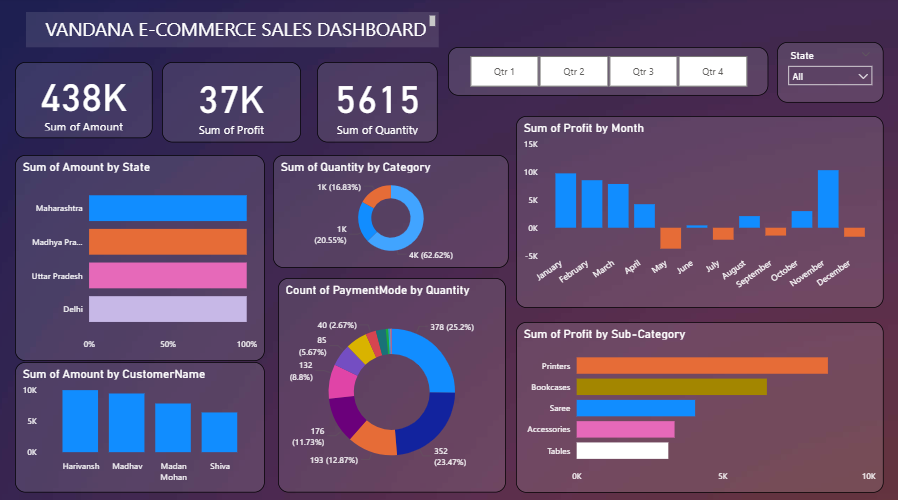

This screenshot's page, from the dashboard's own definition file:
{"tool":"powerbi","page":{"name":"Page 1","canvas":[1280,720],"ordinal":0},"visuals":[{"type":"textbox","box":[42,21.8,584.6,50.4],"z":0},{"type":"columnChart","fields":{"Category":["Orders.Order Date.Variation.Date Hierarchy.Month"],"Y":["Details.Profit"]},"box":[737.4,168,520.7,272.1],"z":1000},{"type":"clusteredBarChart","fields":{"Category":["Details.Sub-Category"],"Y":["Details.Profit"]},"box":[737.4,460.3,520.7,241.9],"z":2000},{"type":"donutChart","fields":{"Category":["Details.Category"],"Y":["Details.Quantity"]},"box":[393.1,223.4,334.3,159.6],"z":3000},{"type":"donutChart","fields":{"Category":["Details.Quantity"],"Y":["Details.PaymentMode"]},"box":[399.8,398.1,322.5,304],"z":4000},{"type":"card","fields":{"Values":["Details.Amount"]},"box":[26.9,92.4,194.9,107.5],"z":5000},{"type":"card","fields":{"Values":["Details.Profit"]},"box":[235.2,92.4,196.5,114.2],"z":6000},{"type":"card","fields":{"Values":["Details.Quantity"]},"box":[455.2,92.4,171.3,114.2],"z":7000},{"type":"hundredPercentStackedBarChart","fields":{"Category":["Orders.State"],"Y":["Details.Amount"]},"box":[26.9,223.4,354.4,292.3],"z":8000},{"type":"columnChart","fields":{"Category":["Orders.CustomerName"],"Y":["Details.Amount"]},"box":[26.9,517.4,354.4,184.8],"z":9000},{"type":"slicer","fields":{"Values":["Orders.Order Date.Variation.Date Hierarchy.Quarter"]},"box":[640,70.6,453.5,68.9],"z":10000},{"type":"slicer","fields":{"Values":["Orders.State"]},"box":[1107,63.8,151.2,85.7],"z":11000}]}

Visuals, with their boxes in screenshot pixels (x1, y1, x2, y2), scaled from the page's 1280x720 canvas onto the 898x500 screenshot:
textbox: {"left": 29, "top": 15, "right": 440, "bottom": 50}
columnChart - Orders.Order Date.Variation.Date Hierarchy.Month x Details.Profit: {"left": 517, "top": 117, "right": 883, "bottom": 306}
clusteredBarChart - Details.Sub-Category x Details.Profit: {"left": 517, "top": 320, "right": 883, "bottom": 488}
donutChart - Details.Category x Details.Quantity: {"left": 276, "top": 155, "right": 510, "bottom": 266}
donutChart - Details.Quantity x Details.PaymentMode: {"left": 280, "top": 276, "right": 507, "bottom": 488}
card - Details.Amount: {"left": 19, "top": 64, "right": 156, "bottom": 139}
card - Details.Profit: {"left": 165, "top": 64, "right": 303, "bottom": 143}
card - Details.Quantity: {"left": 319, "top": 64, "right": 440, "bottom": 143}
hundredPercentStackedBarChart - Orders.State x Details.Amount: {"left": 19, "top": 155, "right": 268, "bottom": 358}
columnChart - Orders.CustomerName x Details.Amount: {"left": 19, "top": 359, "right": 268, "bottom": 488}
slicer - Orders.Order Date.Variation.Date Hierarchy.Quarter: {"left": 449, "top": 49, "right": 767, "bottom": 97}
slicer - Orders.State: {"left": 777, "top": 44, "right": 883, "bottom": 104}
